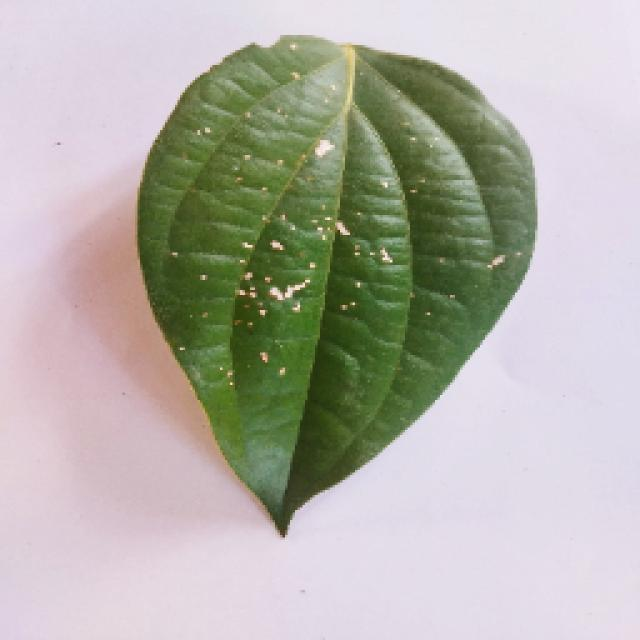pollu-disease: (95, 32, 553, 532)
